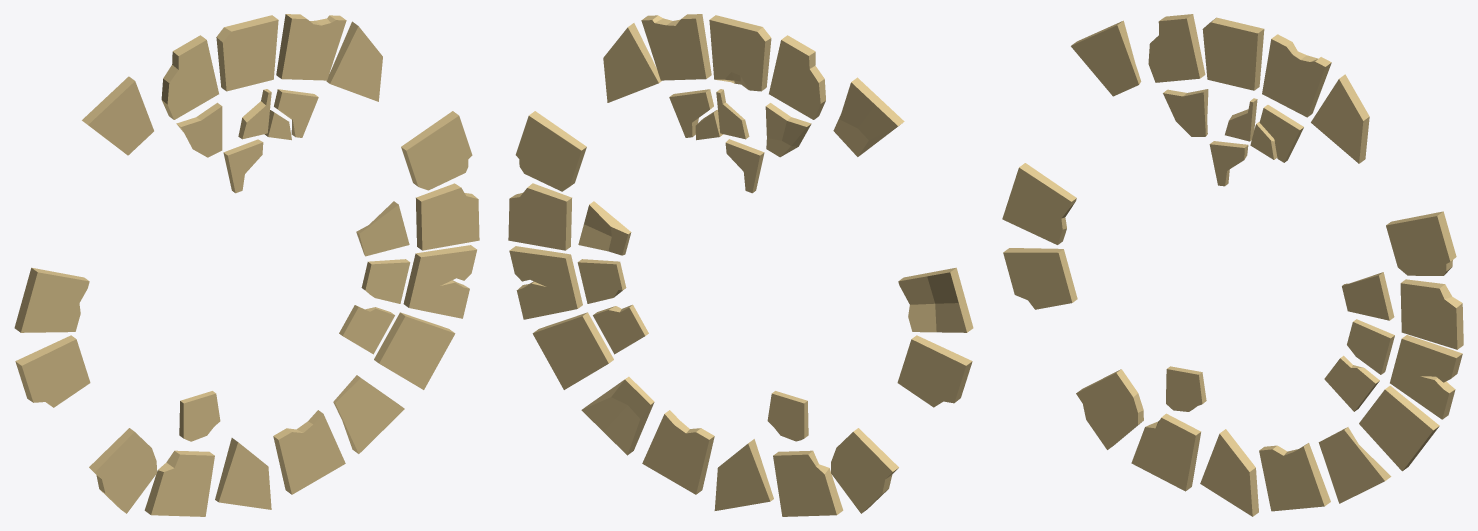
The model's file is Destroy_Circle_Plate.fbx.
The picture shows the model from 3 angles, left to right: view 1: azimuth 30°, elevation 25°; view 2: azimuth 150°, elevation 25°; view 3: azimuth 330°, elevation 25°; orthographic projection.
Parts seen in each view (by area): view 1: Destroy_Circle_Plate; view 2: Destroy_Circle_Plate; view 3: Destroy_Circle_Plate.
Part boxes in pixels (left/top/right/bottom): Destroy_Circle_Plate: left=14, top=14, right=479, bottom=516; Destroy_Circle_Plate: left=508, top=14, right=973, bottom=516; Destroy_Circle_Plate: left=1002, top=14, right=1463, bottom=516.
Bounding box in the file's own units: 9.38 × 9.56 × 0.2643.
